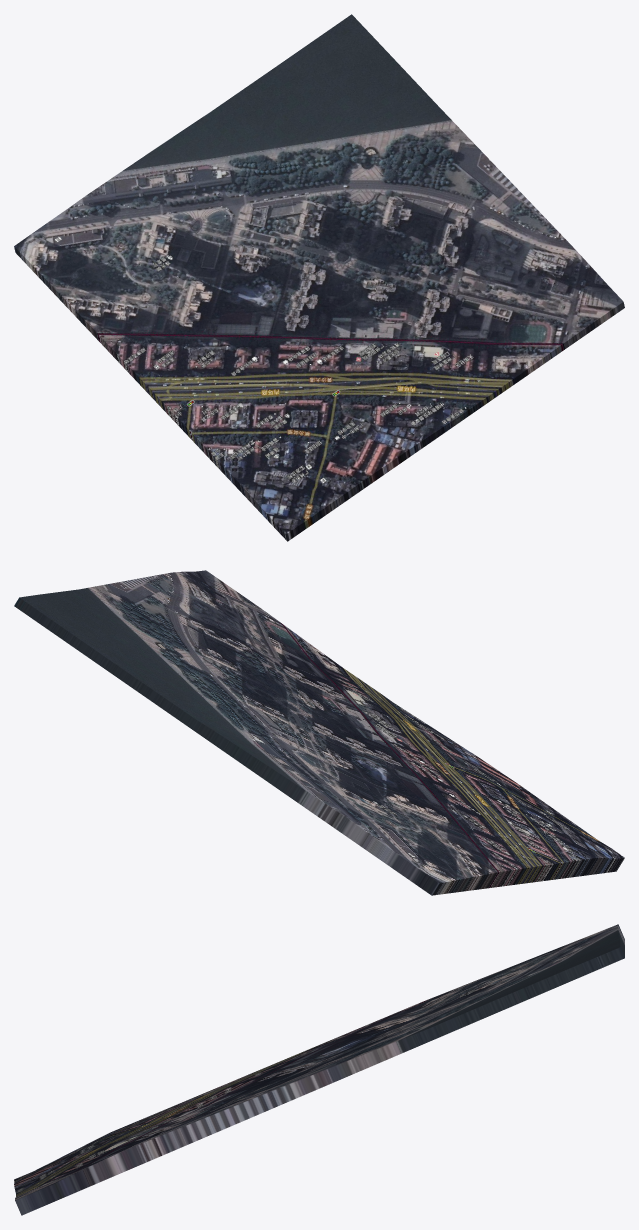
3 views of the same model, one above another, from view 1: azimuth 30°, elevation 25°; view 2: azimuth 150°, elevation 25°; view 3: azimuth 270°, elevation 25° (orthographic). The views are drawn at different scales.
Parts seen in each view (by area): view 1: 0_12_5; view 2: 0_12_5; view 3: 0_12_5.
Part boxes in pixels (<box>): 0_12_5: <box>14,14,624,541</box>; 0_12_5: <box>14,570,624,895</box>; 0_12_5: <box>14,924,624,1215</box>.
Bounding box in the file's own units: 598 × 437 × 549.
Materials: 1 (1 with a texture image).
